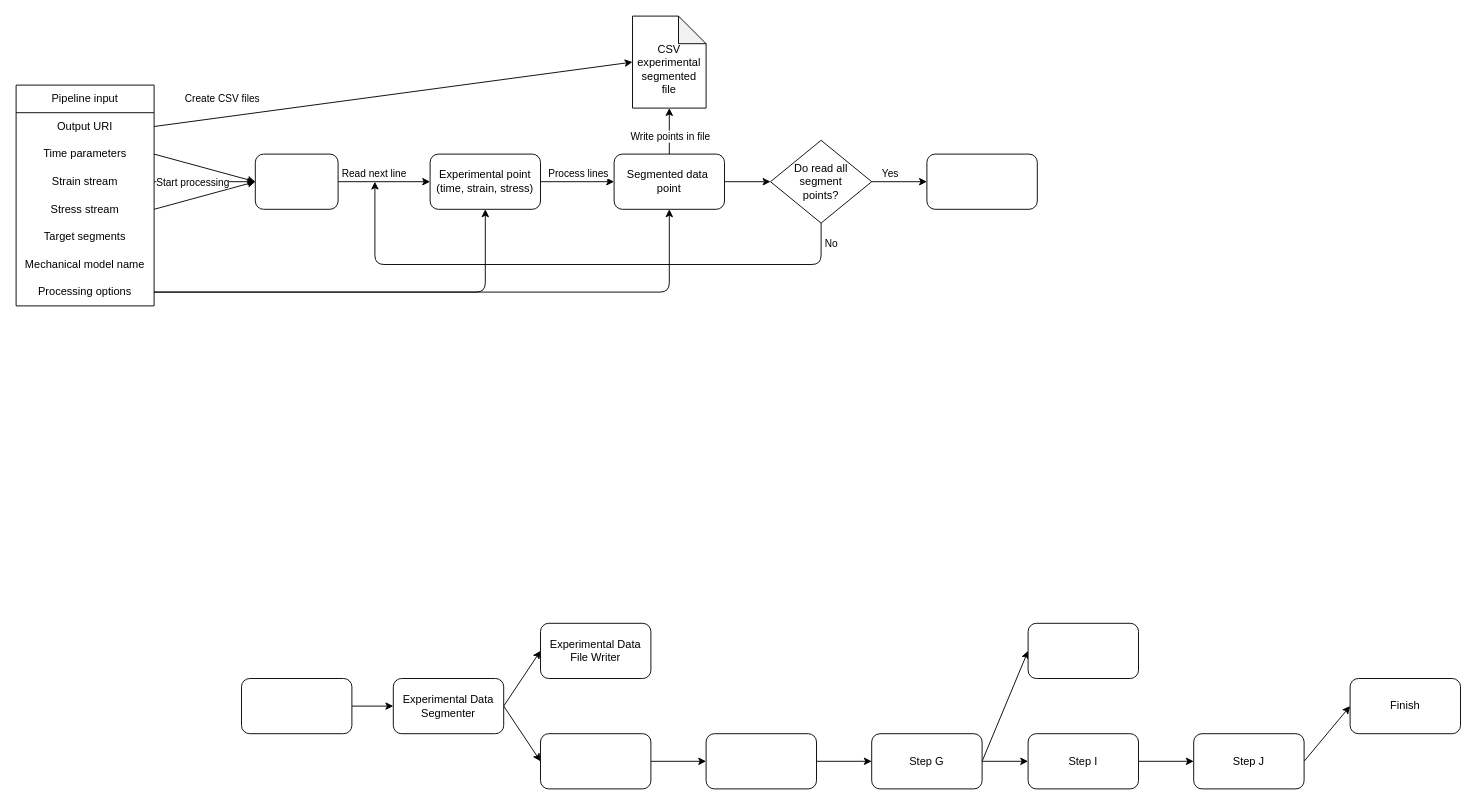
This 1477x805 diagram has some shape labels left out. Each missing label, with the box of its shape:
Curve Fitter: (705, 733, 816, 789)
Curve Segment Builder: (540, 733, 651, 789)
Readers: (254, 153, 338, 209)
Start: (241, 678, 352, 734)
Step H: (1027, 622, 1138, 678)
